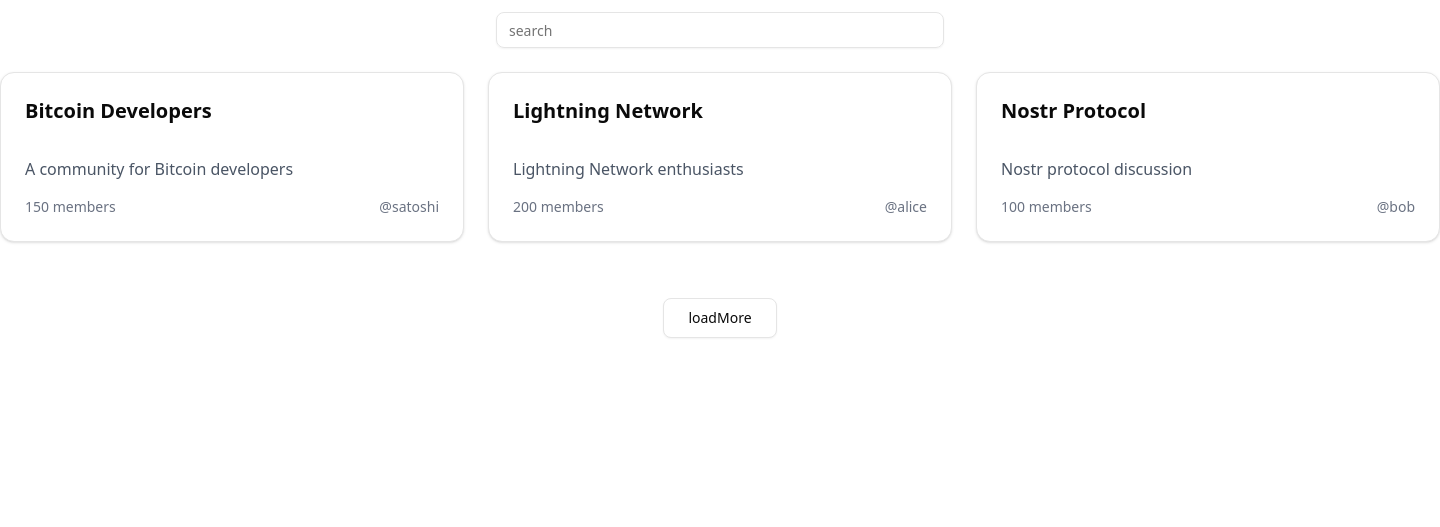
Test: CommunitiesGrid Component › Load More Functionality › should load more communities when clicking Load More
Click the button "loadMore" at {"x": 720, "y": 318}, box [663,298,776,338]
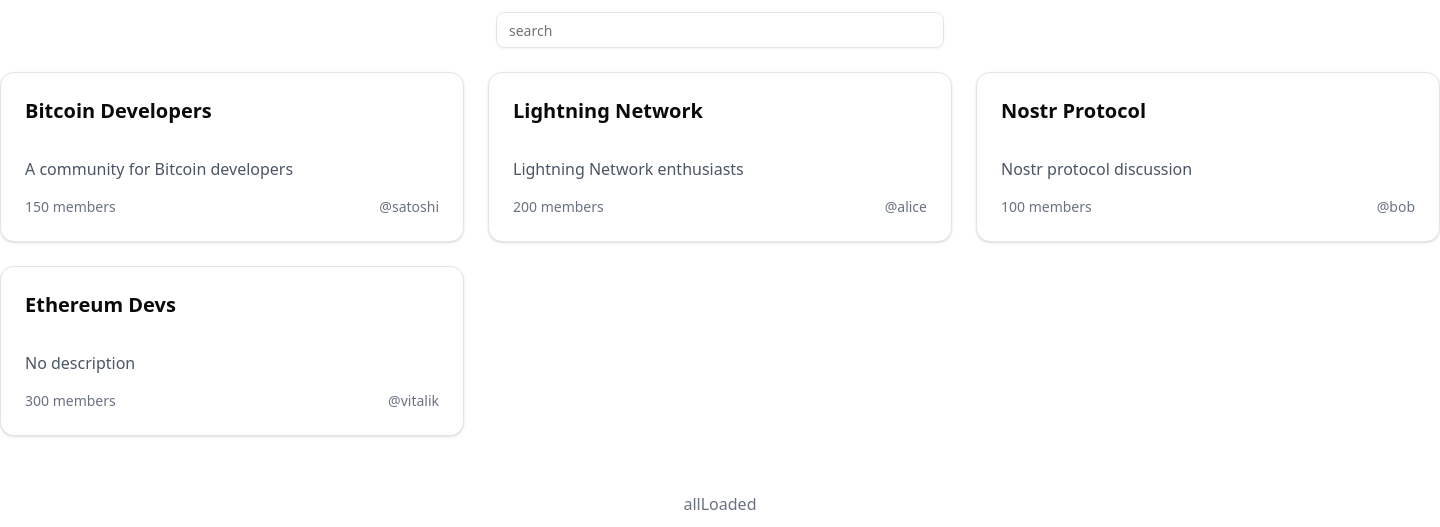
Expected: the text "Bitcoin Developers" is shown, [25,97,212,124]
Expected: the text "Ethereum Devs" is shown, [25,291,176,318]
